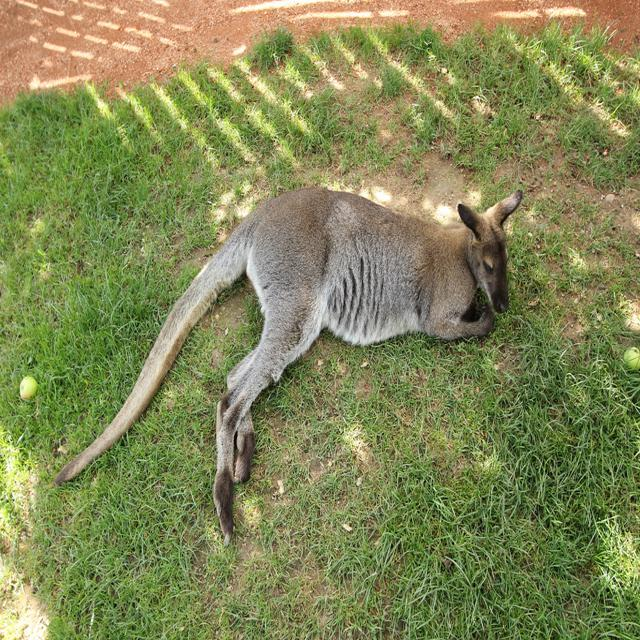kangaroo: (215, 182, 528, 433)
